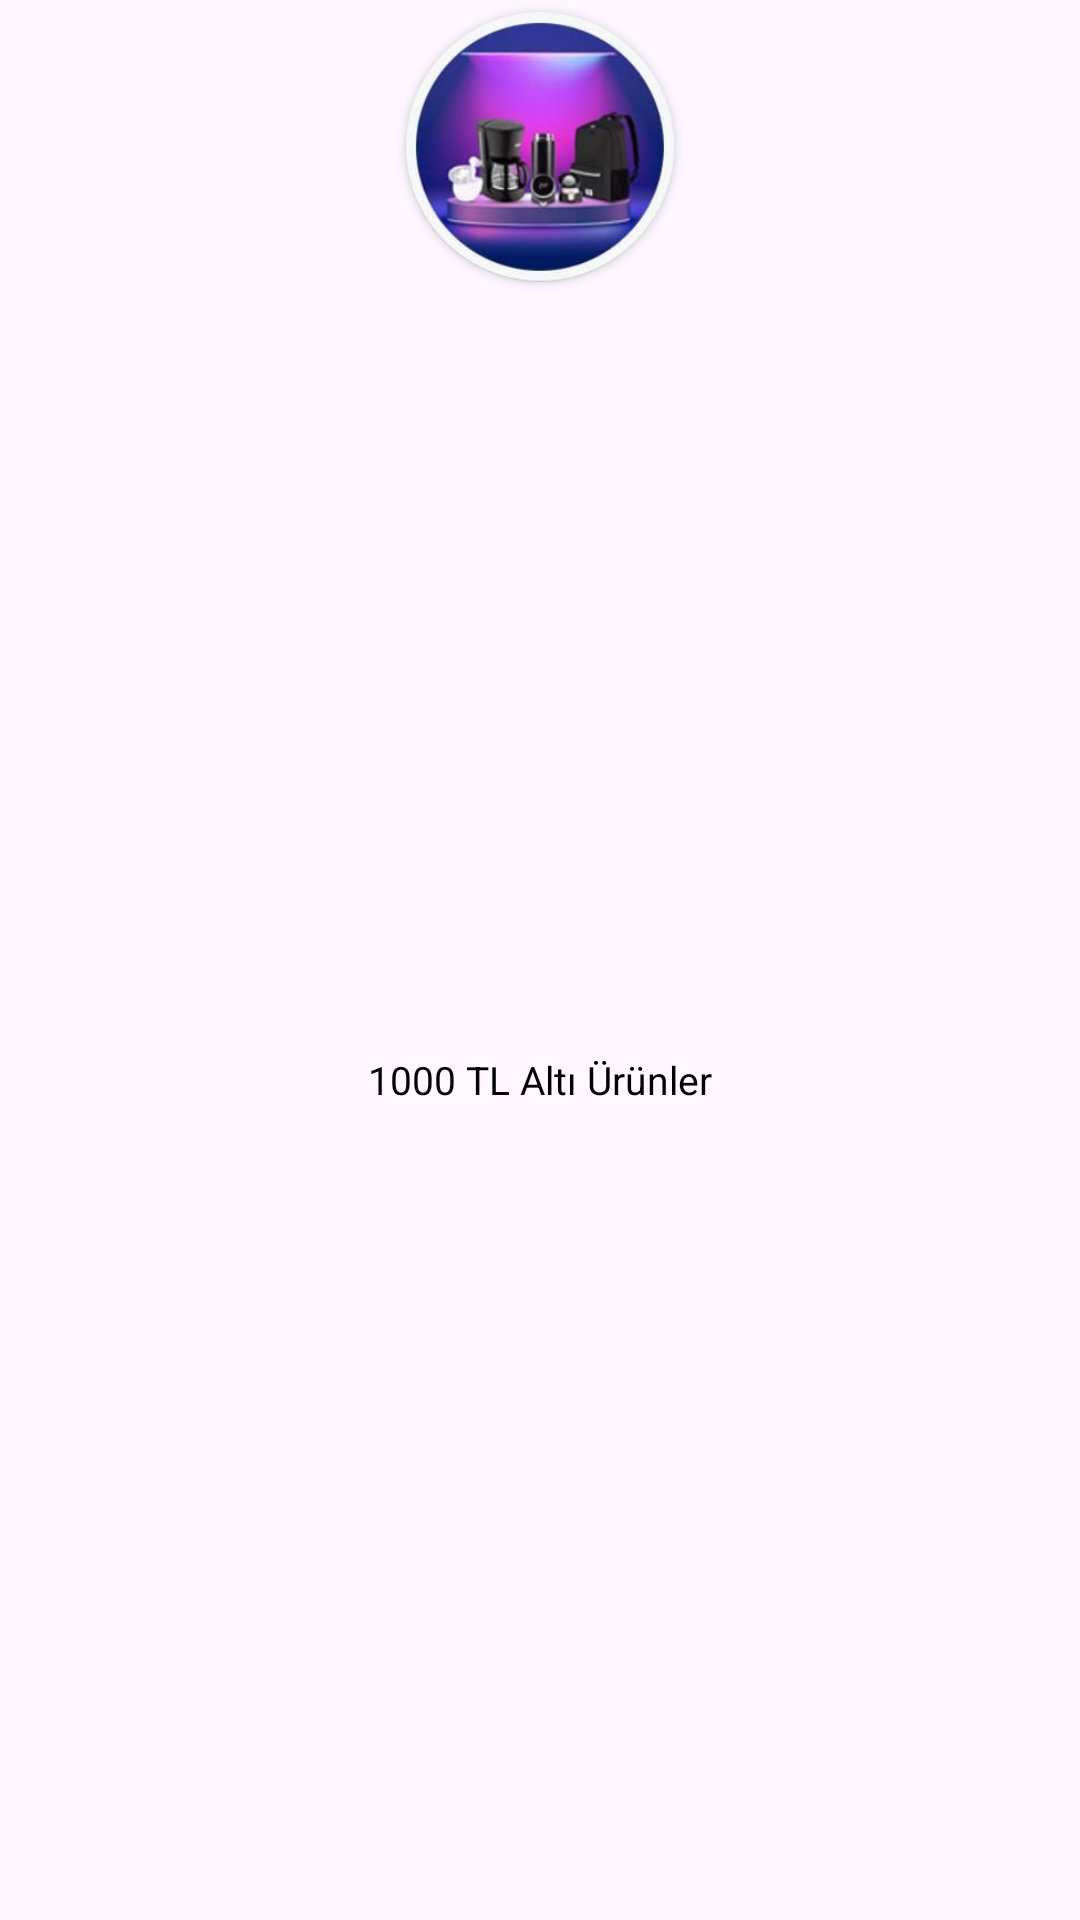

Icon click points for this 1080*1920 phone screenshot, format (x,y):
bintlaltiurunler: (540,152)
